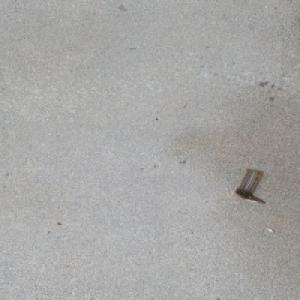MetalPart: (233, 168, 267, 203)
